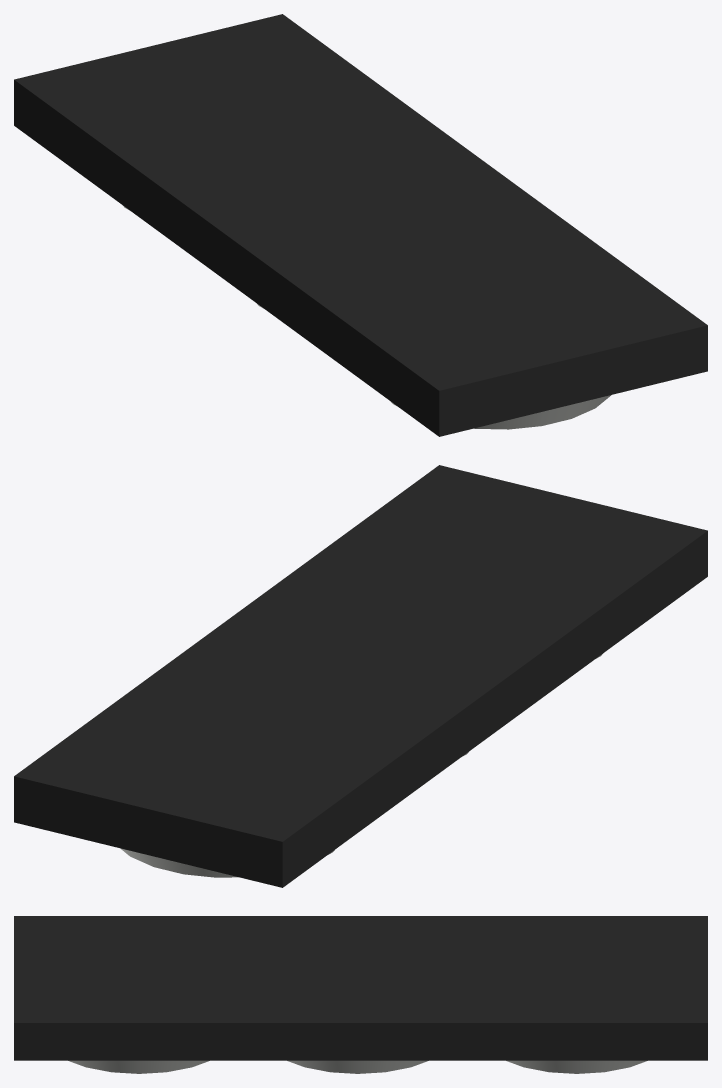
File: lamp 1.FBX
3 renders of one model, top to bottom at view 1: azimuth 30°, elevation 25°; view 2: azimuth 150°, elevation 25°; view 3: azimuth 270°, elevation 25°, orthographic. The views are drawn at different scales.
Parts seen in each view (by area): view 1: focus light; view 2: focus light; view 3: focus light.
Boxes of the visible parts, x1,y1,x2,y2 form: focus light: [14, 14, 707, 436]; focus light: [14, 465, 707, 887]; focus light: [14, 916, 707, 1073].
Size of the model in its own units: 17.16 by 4.7 by 47.05.
2 materials, 1 textured.
